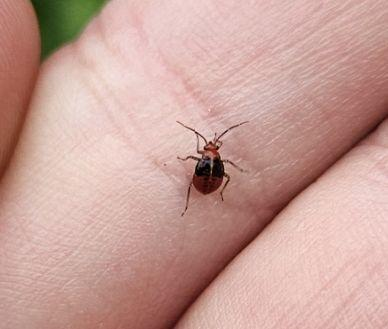plant_bugs: (158, 107, 262, 225)
